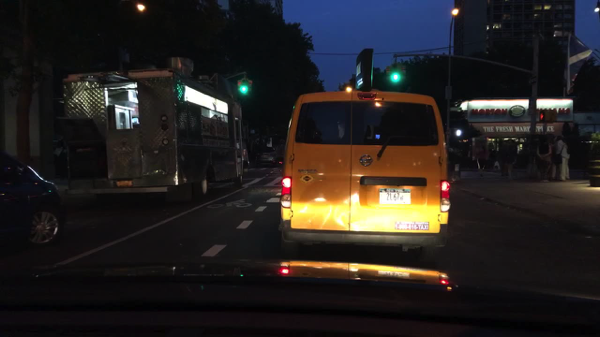car: (276, 88, 452, 267), (0, 148, 68, 257), (252, 150, 275, 169), (274, 145, 287, 169)
person: (500, 136, 519, 180), (535, 130, 550, 184), (555, 136, 572, 182), (547, 135, 560, 180), (473, 147, 487, 176)
traffic light: (538, 109, 557, 122), (236, 79, 243, 98), (382, 68, 391, 81), (401, 65, 407, 84), (391, 69, 399, 82), (248, 78, 253, 97), (241, 85, 250, 95), (452, 129, 462, 138)
truck: (48, 58, 250, 212)
